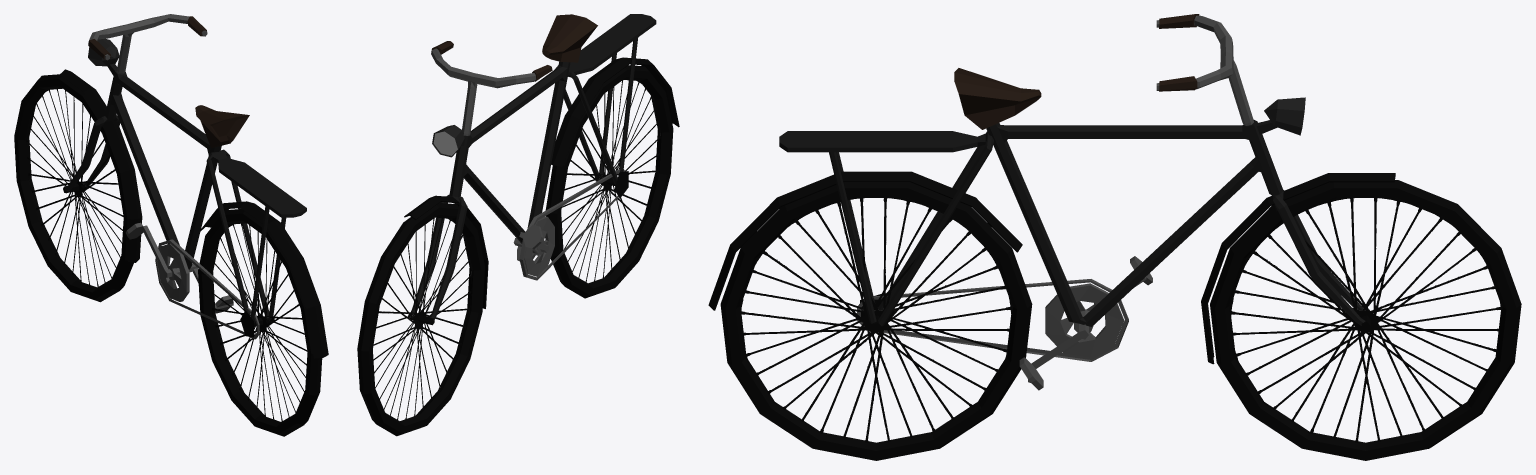
The model's file is bicycle.glb.
3 views of the same model, side by side, from view 1: azimuth 30°, elevation 25°; view 2: azimuth 150°, elevation 25°; view 3: azimuth 270°, elevation 25° (orthographic). The views are drawn at different scales.
Visible parts, largest first — view 1: body, wheel_R, wheel_F; view 2: body, wheel_R, wheel_F; view 3: body, wheel_R, wheel_F.
Part boxes in pixels (bbox=[...]): body: bbox=[65, 14, 306, 339]; wheel_R: bbox=[198, 201, 328, 436]; wheel_F: bbox=[14, 69, 142, 302]; body: bbox=[411, 14, 656, 320]; wheel_R: bbox=[545, 57, 679, 298]; wheel_F: bbox=[357, 195, 488, 436]; body: bbox=[779, 14, 1365, 390]; wheel_R: bbox=[708, 171, 1032, 460]; wheel_F: bbox=[1201, 173, 1521, 460].
Bounding box in the file's own units: 0.3546 × 1.02 × 1.8.
2 materials, 2 textured.
